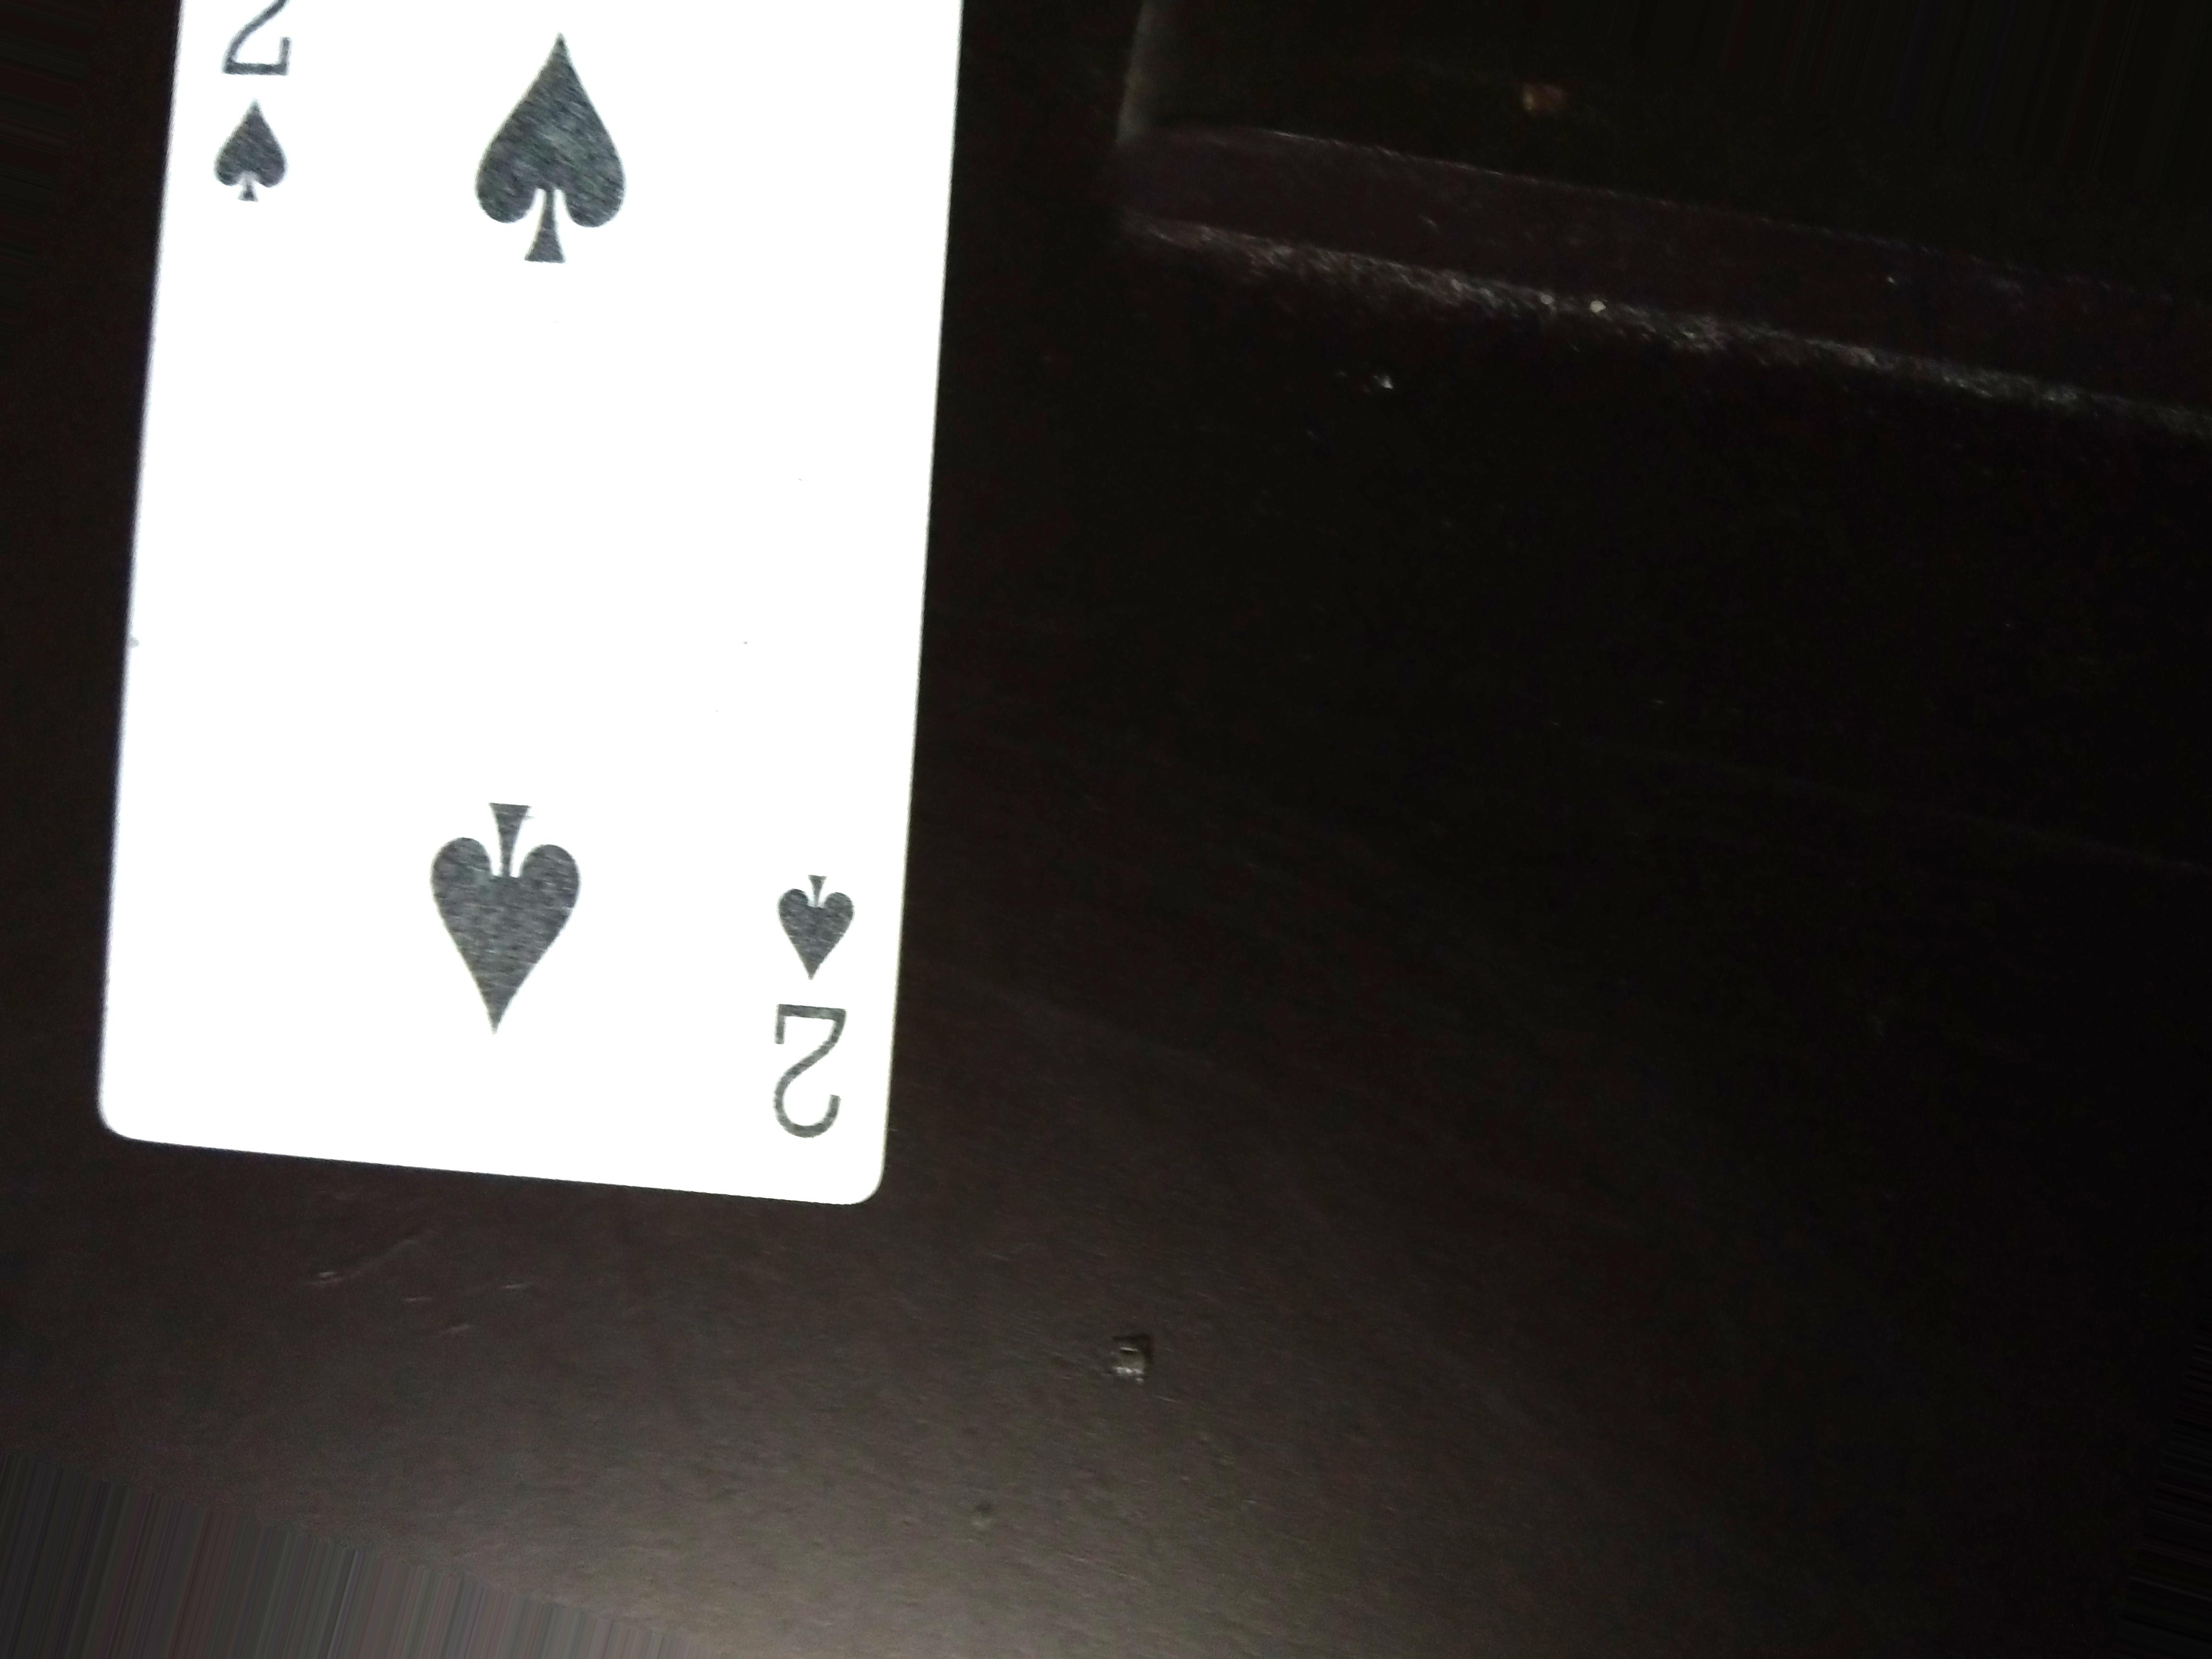2S: (744, 852, 881, 1161)
